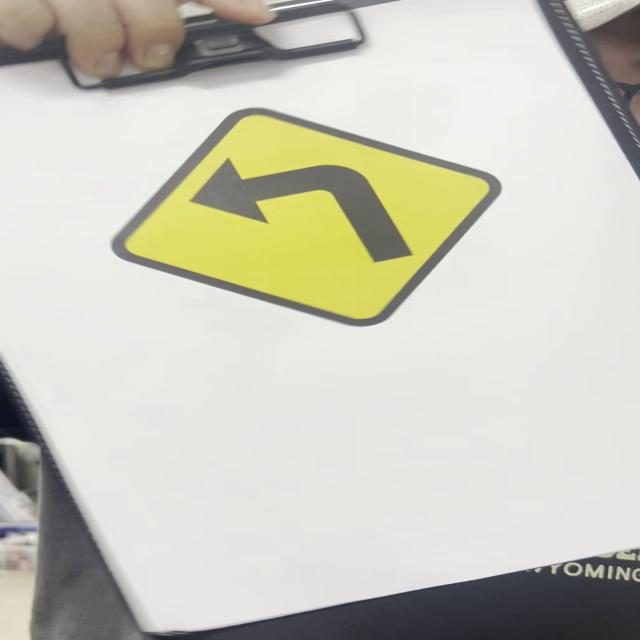left: (108, 109, 509, 324)
